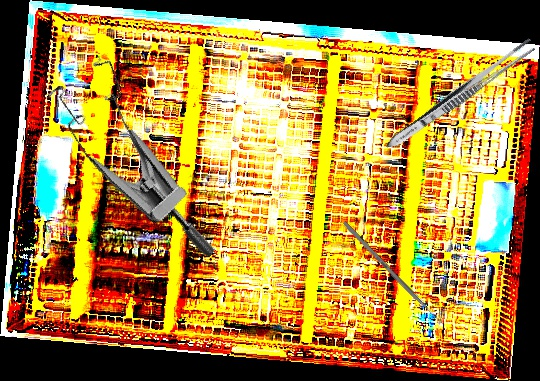Dressing Forceps: (382, 34, 539, 155)
Pusher: (342, 220, 446, 329)
Speculum: (21, 42, 270, 261)
